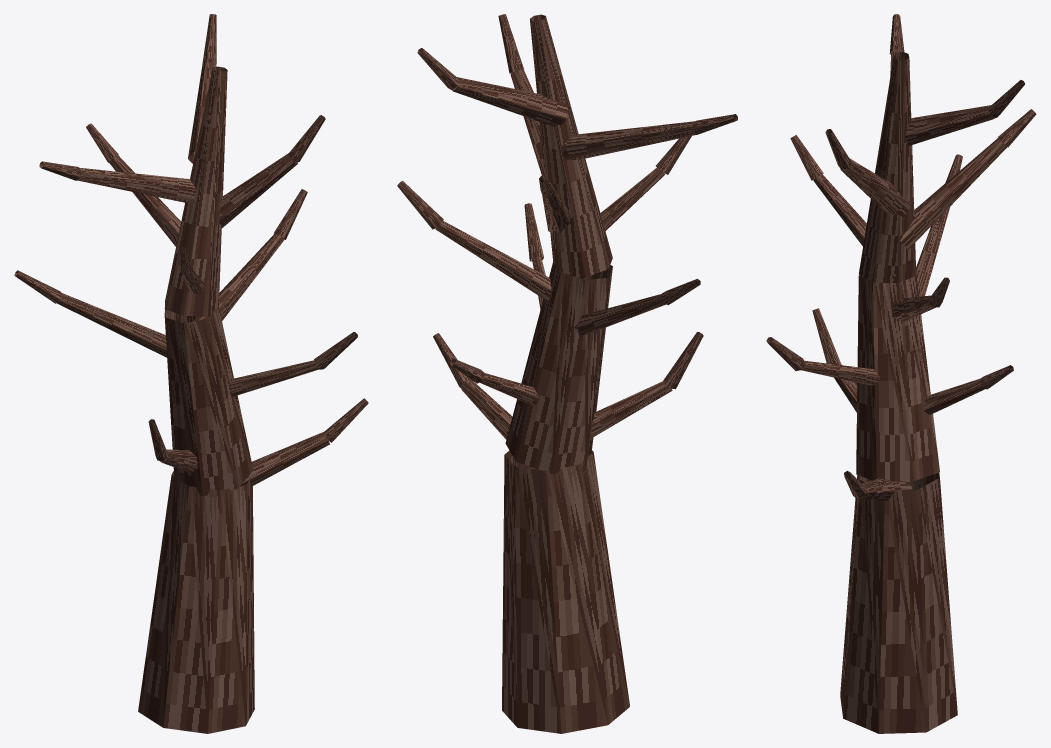
Rendered from 09_arbol_seco.glb.
3 renders of one model, left to right at view 1: azimuth 30°, elevation 25°; view 2: azimuth 150°, elevation 25°; view 3: azimuth 270°, elevation 25°, orthographic. The views are drawn at different scales.
Visible parts, largest first — view 1: world; view 2: world; view 3: world.
Part boxes in pixels (<box>): world: <box>14,14,368,733</box>; world: <box>397,14,737,733</box>; world: <box>766,14,1036,733</box>.
Size of the model in its own units: 17.45 by 35 by 12.85.
1 material, 1 textured.
